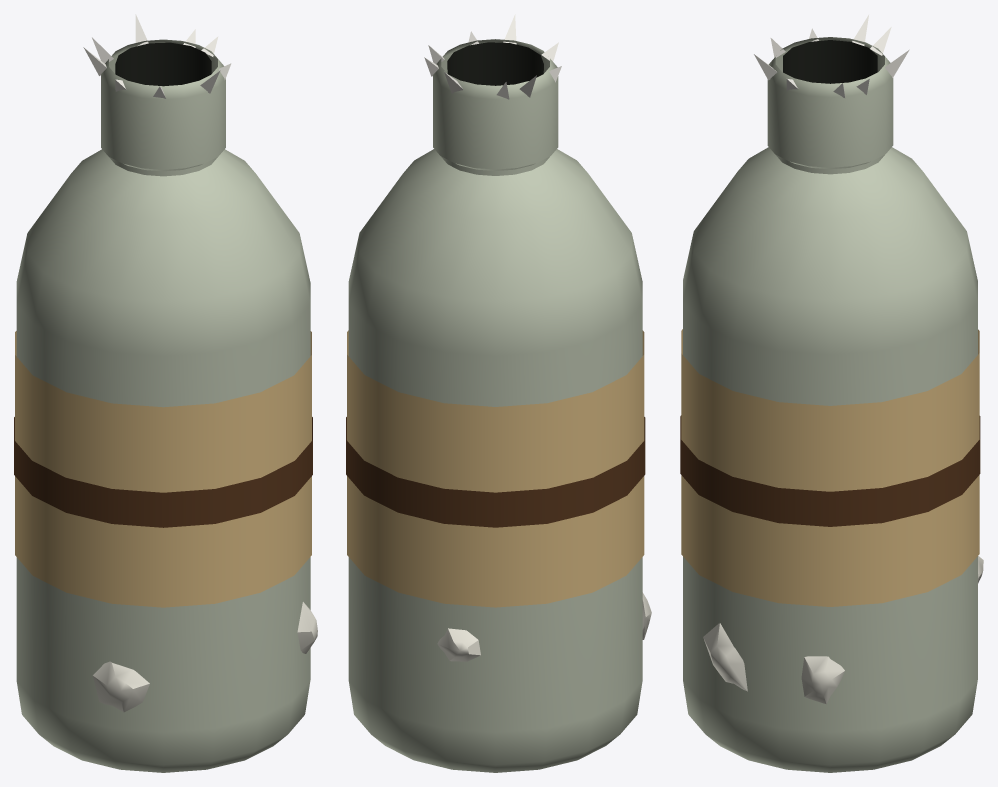
File: almond_open.glb
3 renders of one model, left to right at view 1: azimuth 30°, elevation 25°; view 2: azimuth 150°, elevation 25°; view 3: azimuth 270°, elevation 25°, orthographic.
Parts seen in each view (by area): view 1: teil0, teil2, teil3, teil1, teil5, teil4; view 2: teil0, teil2, teil3, teil1, teil5, teil4; view 3: teil0, teil2, teil3, teil1, teil5, teil4.
Part boxes in pixels (box(x1,y1,x2,y2)): teil0: box(16, 39, 310, 772); teil2: box(15, 331, 311, 607); teil3: box(14, 417, 312, 527); teil1: box(115, 42, 211, 86); teil5: box(92, 602, 317, 712); teil4: box(83, 14, 231, 98); teil0: box(348, 39, 642, 772); teil2: box(347, 330, 644, 607); teil3: box(346, 417, 645, 527); teil1: box(447, 42, 543, 85); teil5: box(437, 592, 651, 661); teil4: box(424, 14, 561, 99); teil0: box(683, 37, 977, 772); teil2: box(681, 329, 979, 606); teil3: box(680, 415, 980, 526); teil1: box(783, 40, 877, 83); teil5: box(703, 556, 983, 704); teil4: box(754, 15, 909, 97).
Size of the model in its own units: 0.1123 by 0.2688 by 0.1093.
